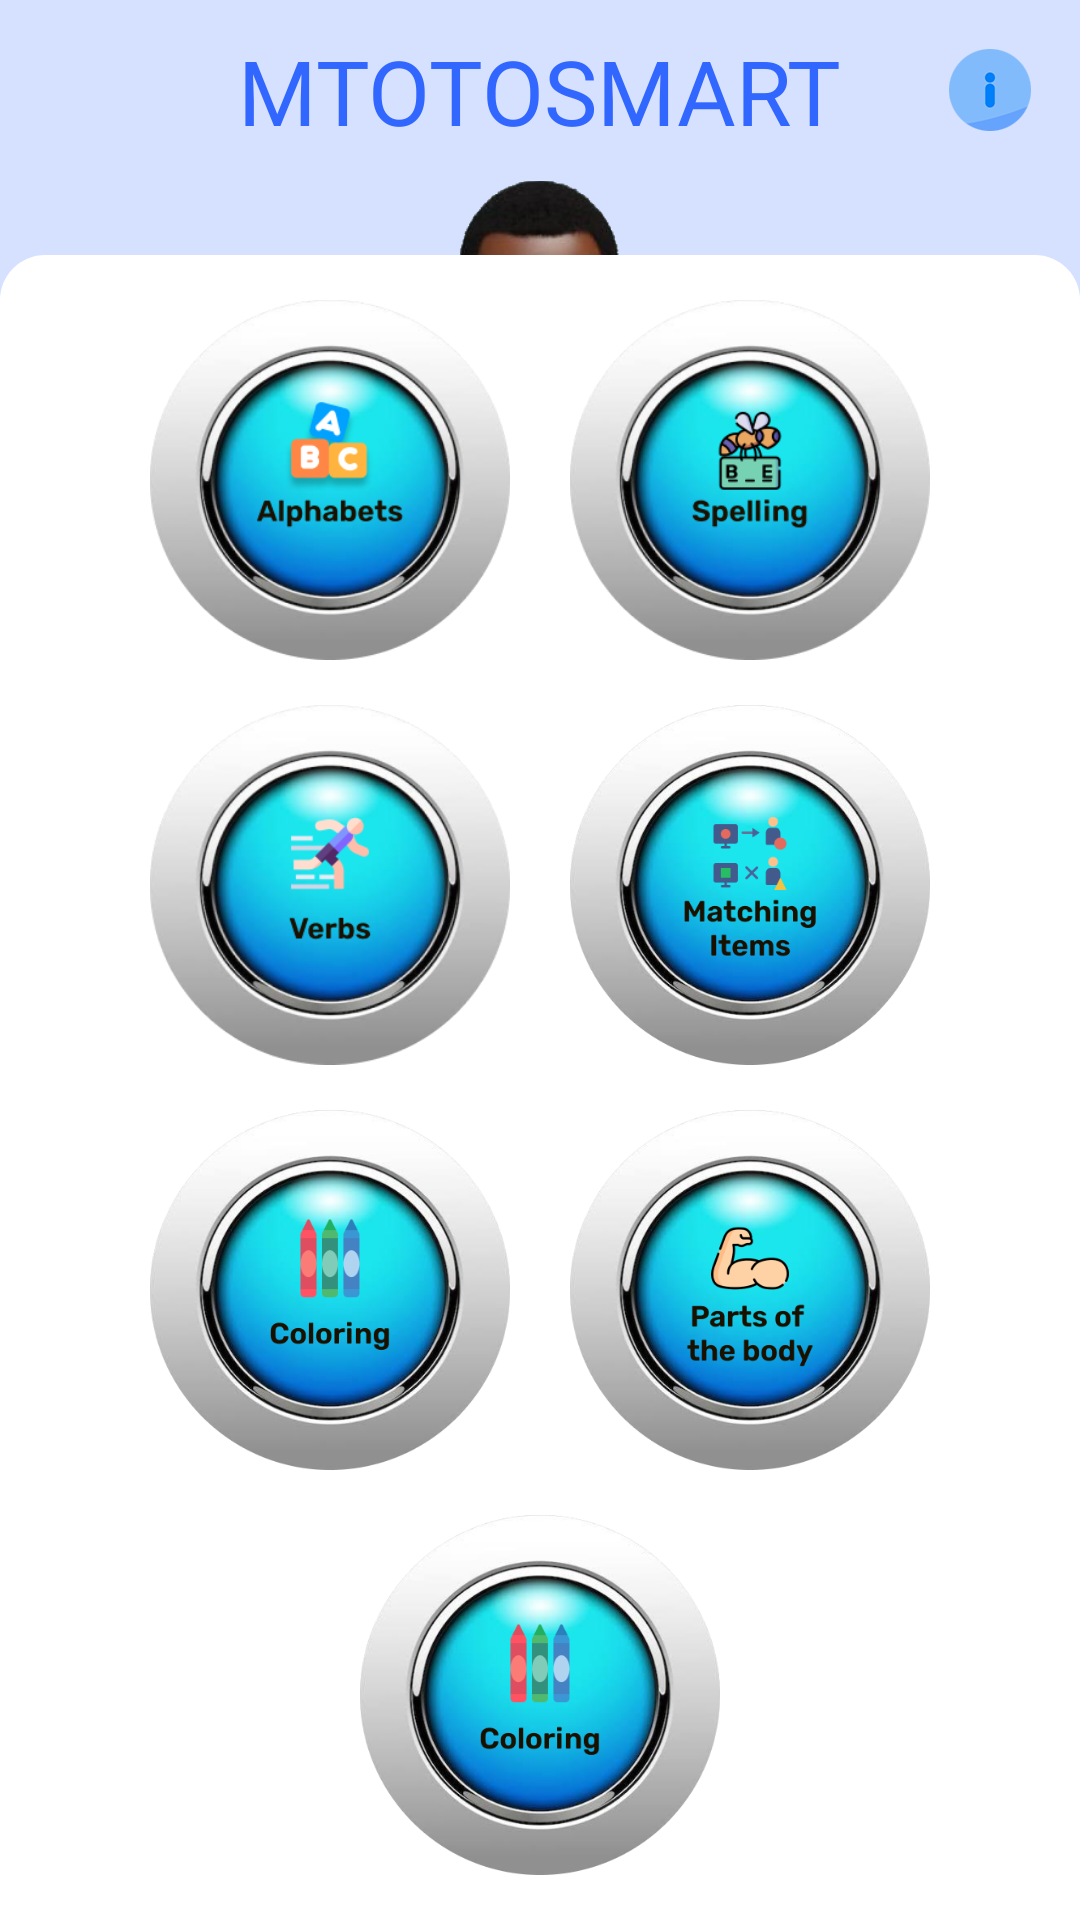

Icon bounding boxes for this 1080*1920 phone screenshot, format (x1, y1, x2, y2):
info: (949, 49, 1031, 131)
